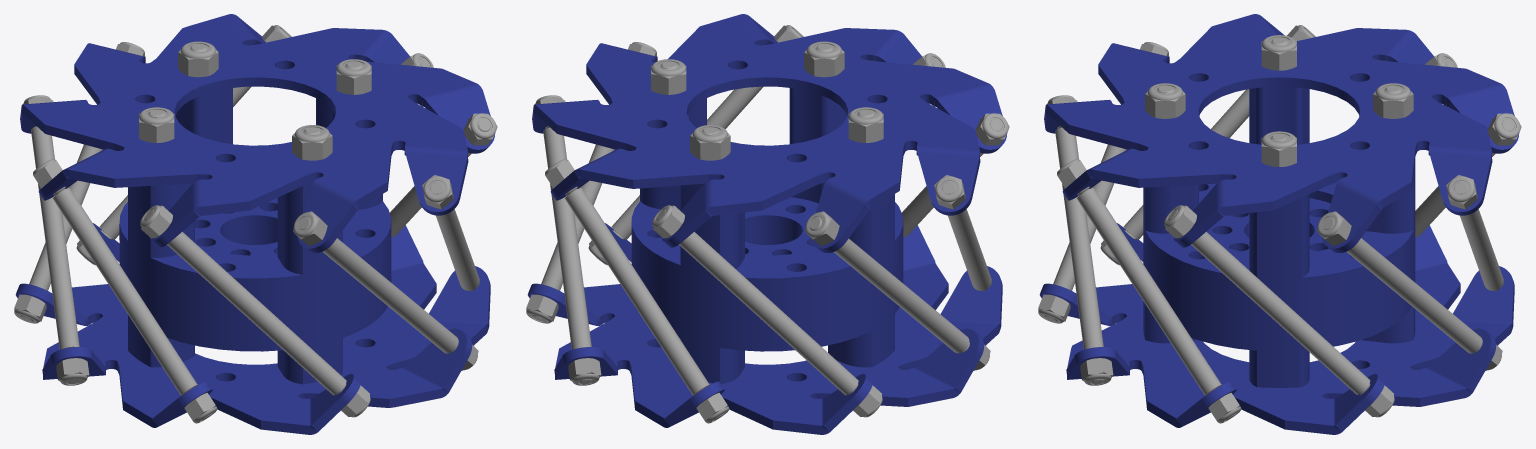
File: left rear wheel inner v3.fbx
3 views of the same model, side by side, from view 1: azimuth 30°, elevation 25°; view 2: azimuth 150°, elevation 25°; view 3: azimuth 270°, elevation 25° (orthographic).
Parts seen in each view (by area): view 1: Body1 (×24); view 2: Body1 (×24); view 3: Body1 (×24).
Boxes of the visible parts, bbox=[...] form: Body1 (×24): bbox=[14, 14, 497, 434]; Body1 (×24): bbox=[526, 14, 1009, 434]; Body1 (×24): bbox=[1038, 14, 1521, 434].
Size of the model in its own units: 94.79 by 59 by 96.
